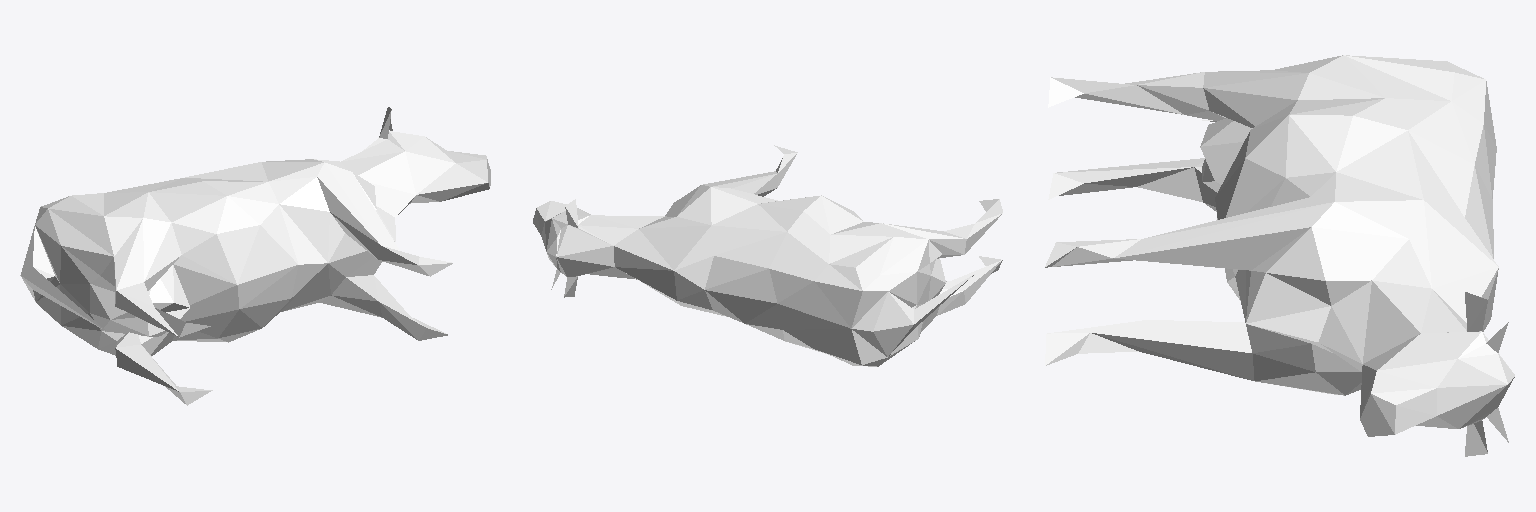
The robot description file, URDF, robot "cow_0.5.obj":
<robot name="cow_0.5.obj">
	<link name="_name">
		<visual>
			<origin rpy="0.0 0.0 0.0" xyz="-108.45222781998385 -569.0389999057716 225.411713" />
			<geometry>
				<mesh filename="cow_0.5.obj" scale="1 1 1" />
			</geometry>
			<material name="texture">
				<color rgba="1.0 1.0 1.0 1.0" />
			</material>
		</visual>
		<collision>
			<origin rpy="0.0 0.0 0.0" xyz="-108.45222781998385 -569.0389999057716 225.411713" />
			<geometry>
				<mesh filename="cow_0.5.obj" scale="1 1 1" />
			</geometry>
		</collision>
		<inertial>
			<mass value="1.0" />
			<inertia ixx="1.0" ixy="0.0" ixz="0.0" iyy="1.0" iyz="0.0" izz="1.0" />
		</inertial>
	</link>
</robot>

--- Render facts (derived) ---
The picture shows the robot from 3 angles, left to right: view 1: azimuth 30°, elevation 25°; view 2: azimuth 150°, elevation 25°; view 3: azimuth 270°, elevation 25°; orthographic projection.
Model cow_0.5.obj with 1 links and 0 joints (none), rooted at _name, posed all joints at 0.
Visible links, largest first — view 1: _name; view 2: _name; view 3: _name.
Boxes of the visible links, x1=… form: _name: x1=20, y1=107, x2=490, y2=405; _name: x1=533, y1=145, x2=1002, y2=366; _name: x1=1045, y1=55, x2=1514, y2=456.
Bounding box of the posed robot: 1454 × 907 × 452 m (x, y, z).
1 mesh visuals loaded from 1 distinct referenced files (1 OBJ).